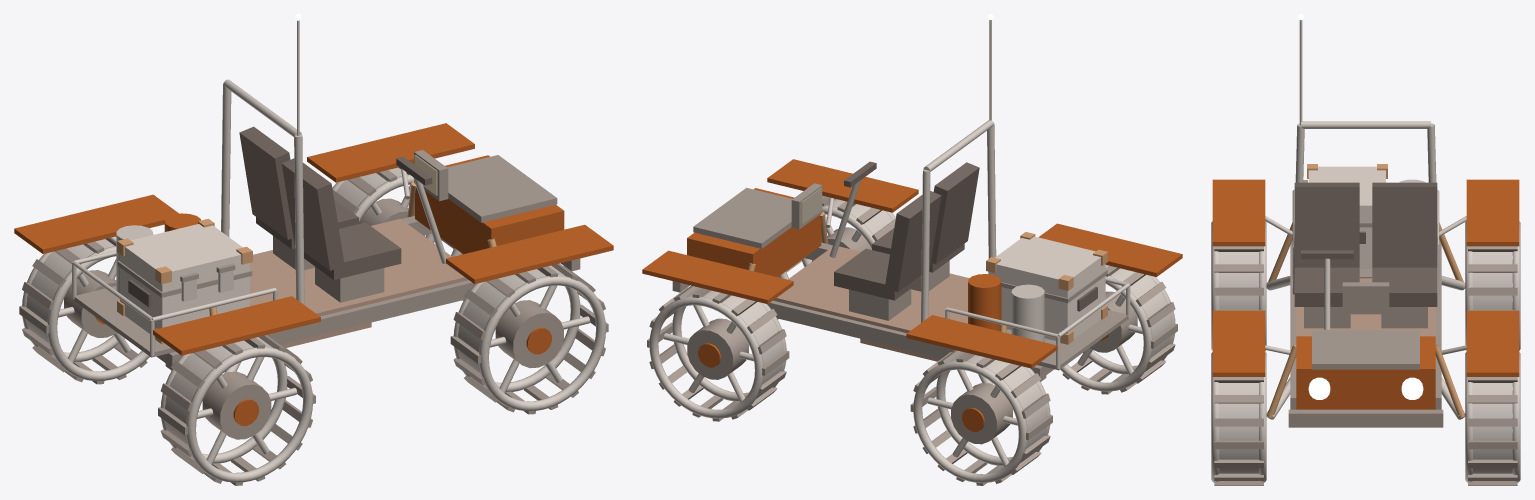
Rendered from V01_open_rover_orange.glb.
3 renders of one model, left to right at view 1: azimuth 30°, elevation 25°; view 2: azimuth 150°, elevation 25°; view 3: azimuth 270°, elevation 25°, orthographic. The views are drawn at different scales.
Parts seen in each view (by area): view 1: hub_cap, tread, tire, floor_pan; view 2: hub_cap, tread, tire, floor_pan; view 3: hub_cap, tread, tire, floor_pan, headlight.
Part boxes in pixels (<box>): hub_cap: <box>14,123,613,425</box>; tread: <box>19,150,608,485</box>; tire: <box>22,20,605,482</box>; floor_pan: <box>250,218,468,347</box>; hub_cap: <box>642,159,1182,431</box>; tread: <box>647,183,1177,485</box>; tire: <box>649,20,1175,482</box>; floor_pan: <box>773,246,969,361</box>; hub_cap: <box>1212,164,1519,418</box>; tread: <box>1214,180,1517,485</box>; tire: <box>1211,20,1520,482</box>; floor_pan: <box>1296,278,1435,336</box>; headlight: <box>1298,14,1423,399</box>.
Bounding box in the file's own units: 3.01 × 2.68 × 2.
